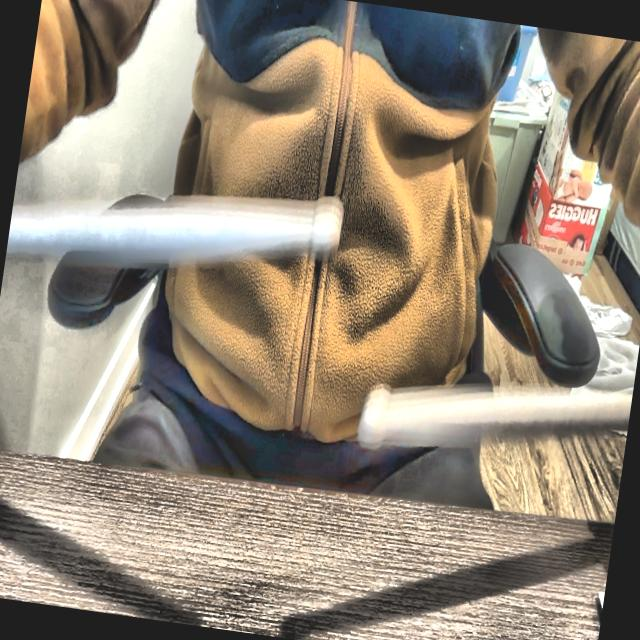Drumstick-Heads: (302, 192, 356, 270), (353, 378, 398, 452)
